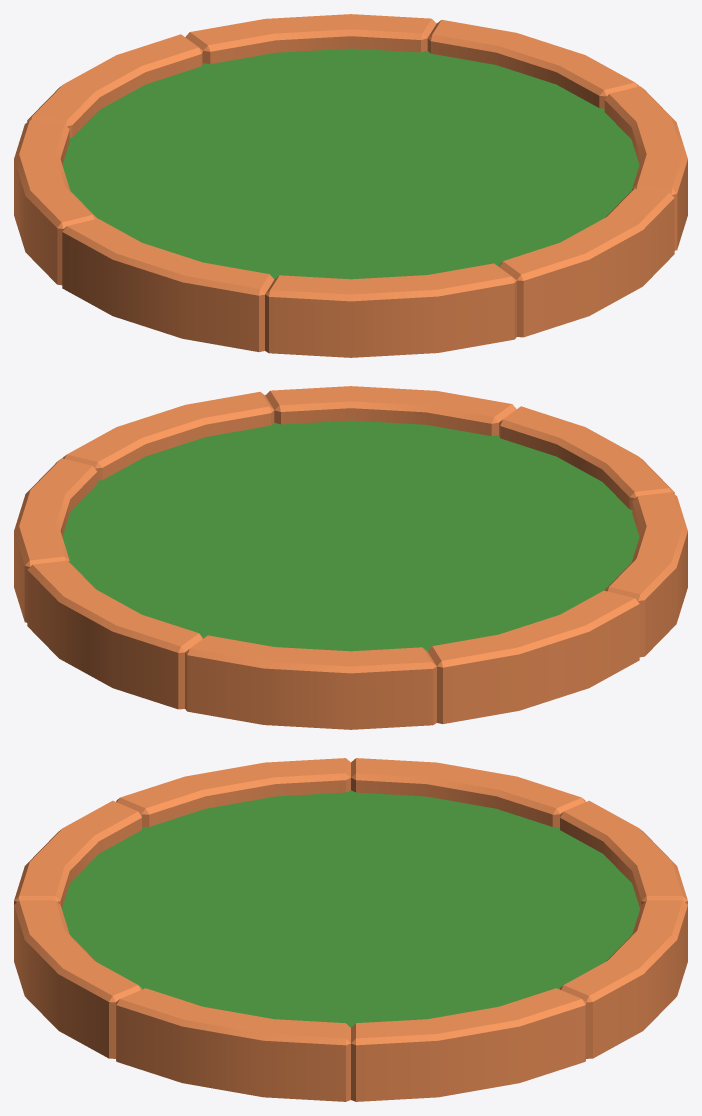
File: Flowerbed.fbx
3 renders of one model, top to bottom at view 1: azimuth 30°, elevation 25°; view 2: azimuth 150°, elevation 25°; view 3: azimuth 270°, elevation 25°, orthographic.
Visible parts, largest first — view 1: Flowerbed; view 2: Flowerbed; view 3: Flowerbed.
Boxes of the visible parts, <box> form: Flowerbed: <box>14,14,687,357</box>; Flowerbed: <box>14,386,687,729</box>; Flowerbed: <box>14,758,687,1101</box>.
Bounding box in the file's own units: 199 × 20 × 199.
